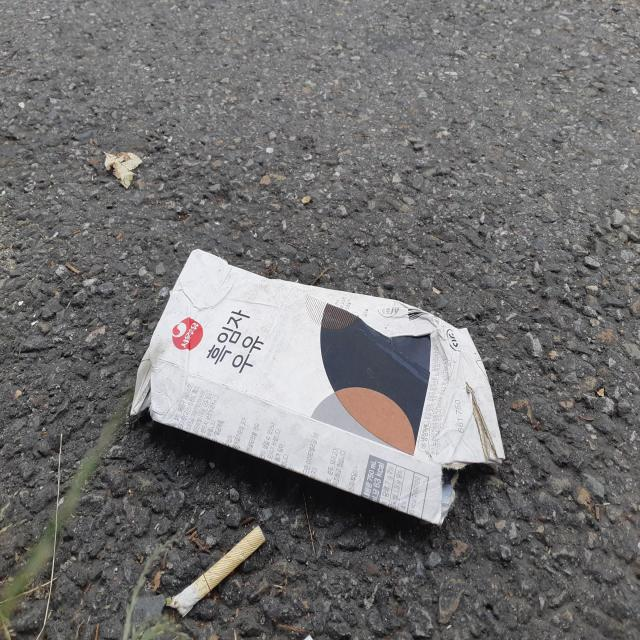paperpack: (130, 249, 505, 524)
